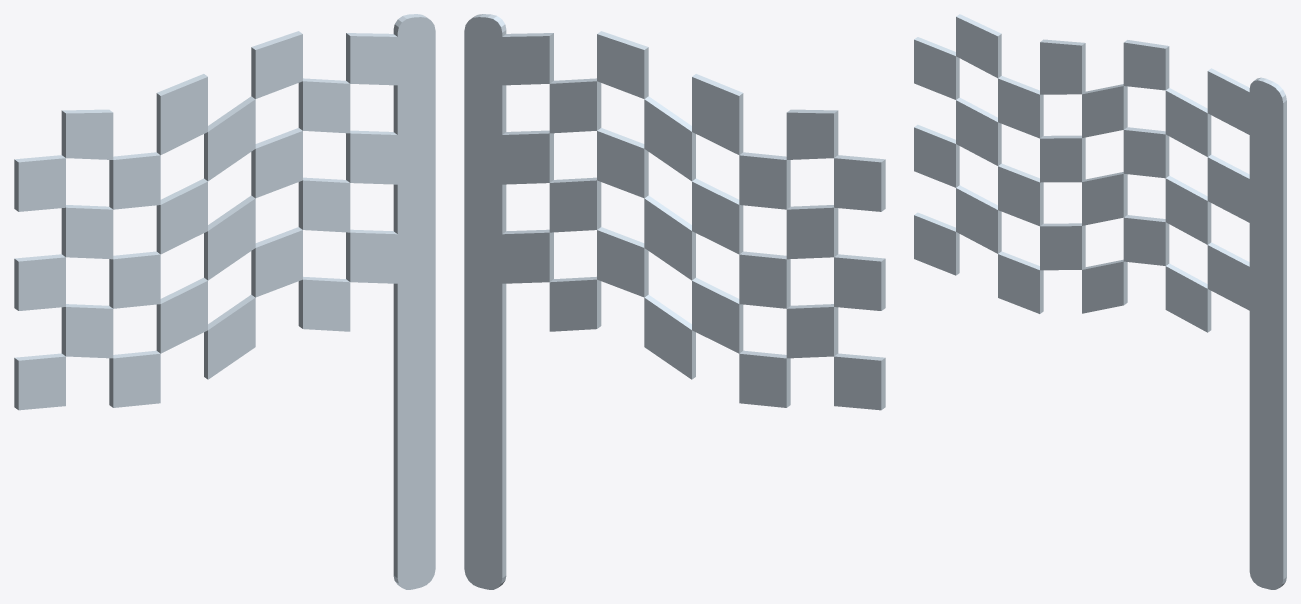
File: Racing_Flag_3D_Icon.fbx
3 renders of one model, left to right at view 1: azimuth 30°, elevation 25°; view 2: azimuth 150°, elevation 25°; view 3: azimuth 330°, elevation 25°, orthographic. The views are drawn at different scales.
Parts seen in each view (by area): view 1: Racing_Flag_3D_Icon_01; view 2: Racing_Flag_3D_Icon_01; view 3: Racing_Flag_3D_Icon_01.
Boxes of the visible parts, x1=… form: Racing_Flag_3D_Icon_01: x1=14, y1=14, x2=435, y2=589; Racing_Flag_3D_Icon_01: x1=464, y1=14, x2=885, y2=589; Racing_Flag_3D_Icon_01: x1=914, y1=14, x2=1286, y2=589.
Bounding box in the file's own units: 114 × 153 × 1.99.
